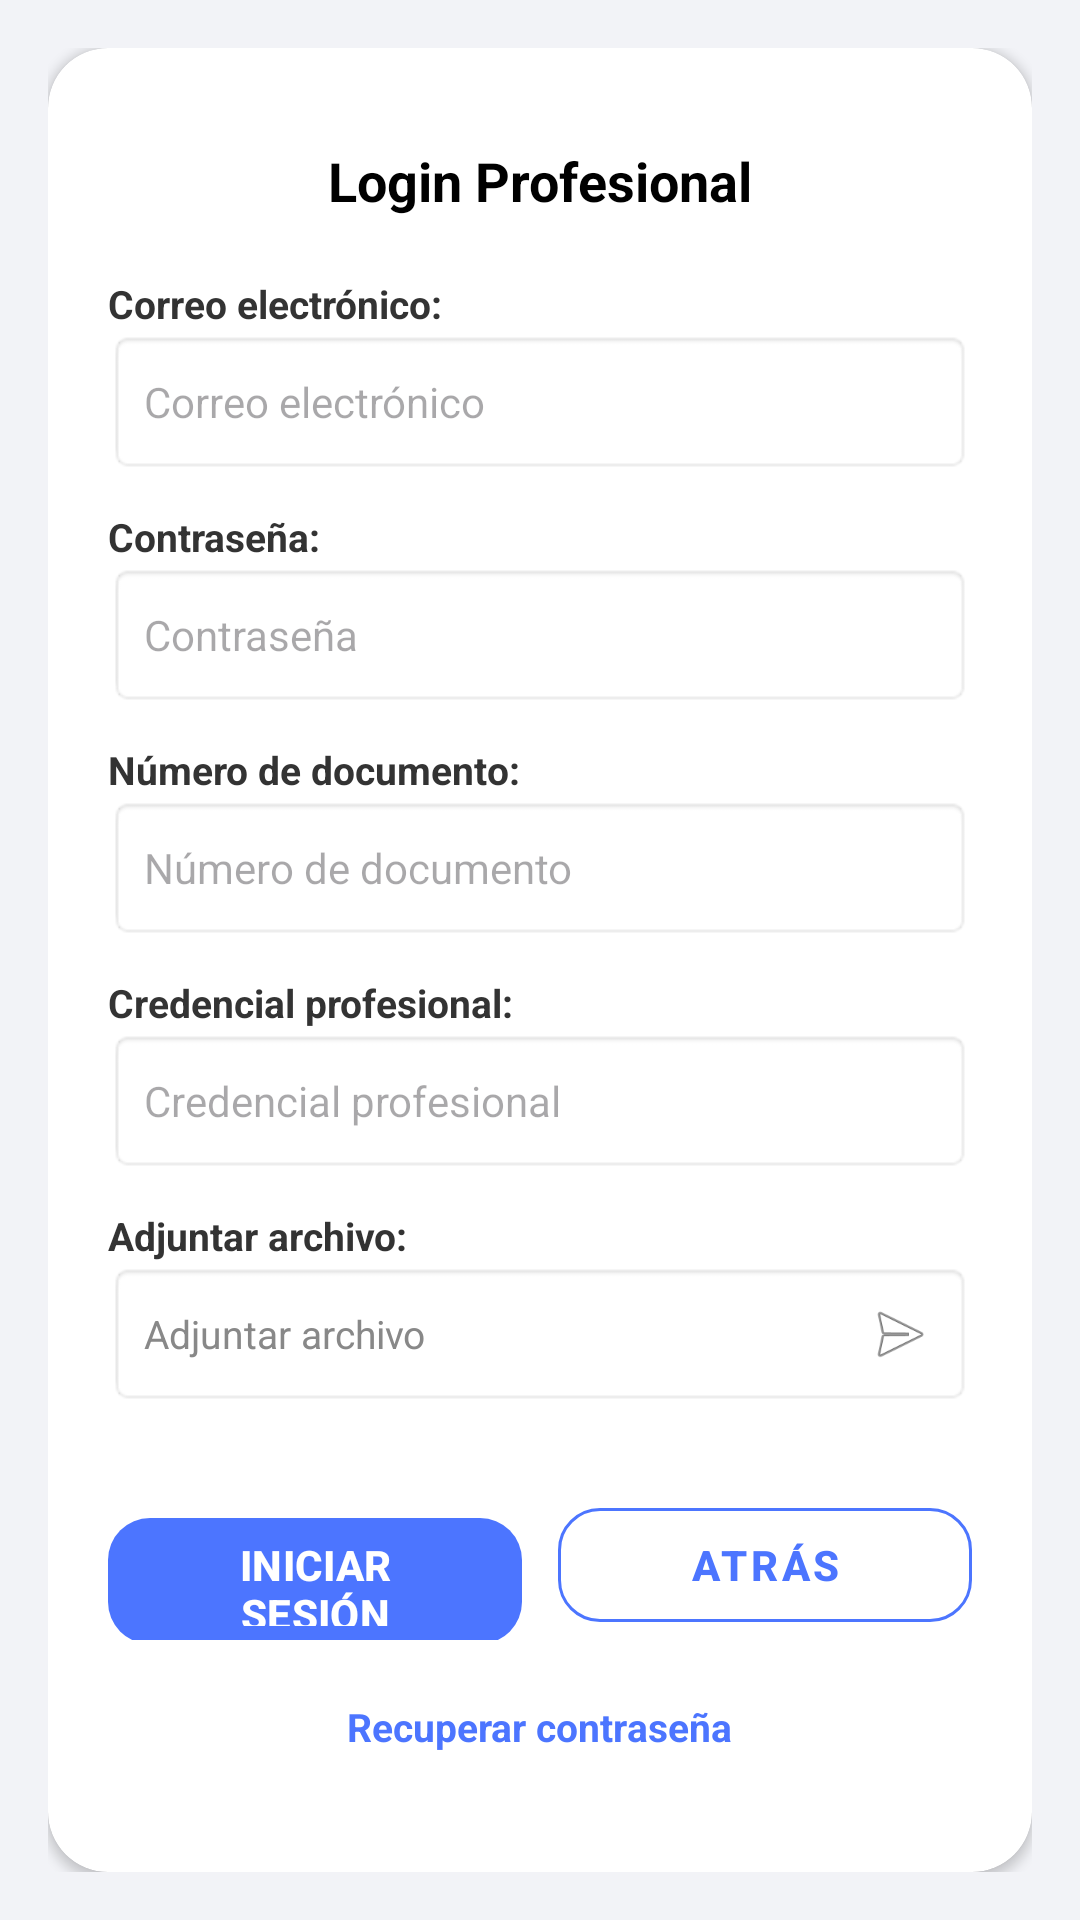

Icon click points for this 1080px×1920px phone screenshot, format (x=x, y=y):
send: (x=900, y=1334)
